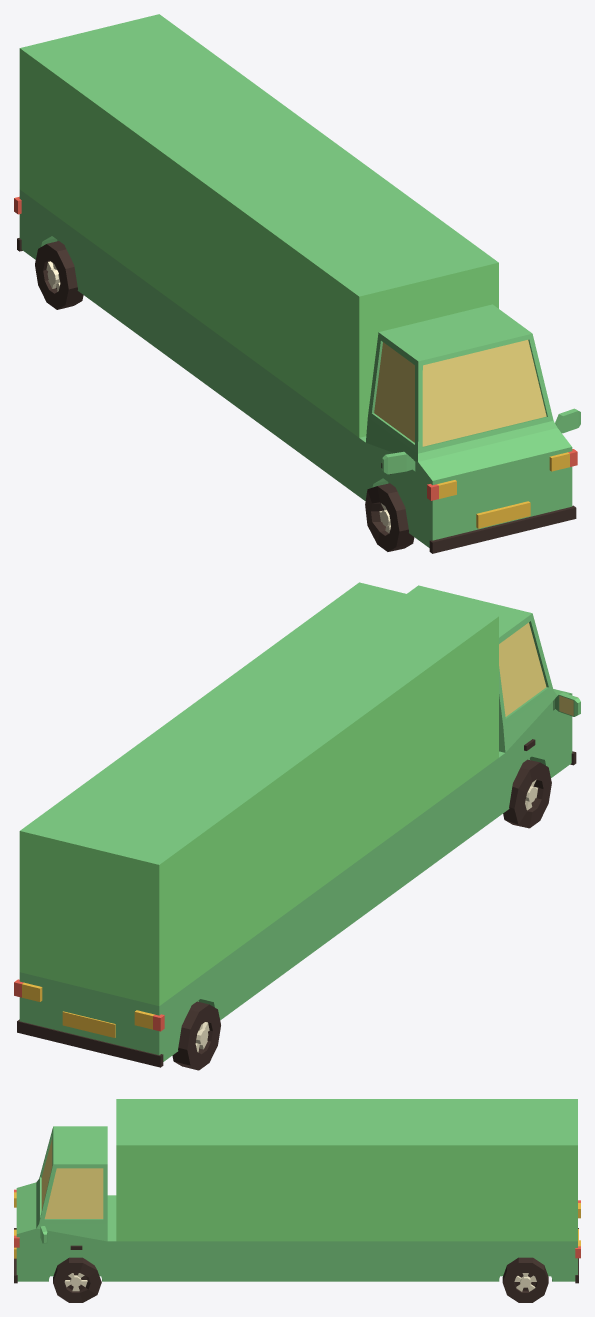
File: TruckModel_v2.fbx
The picture shows the model from 3 angles, top to bottom: view 1: azimuth 30°, elevation 25°; view 2: azimuth 150°, elevation 25°; view 3: azimuth 270°, elevation 25°; orthographic projection. The views are drawn at different scales.
Parts seen in each view (by area): view 1: Truck; view 2: Truck; view 3: Truck.
Boxes of the visible parts, box(x1,y1,x2,y2) form: Truck: box(14, 14, 580, 553); Truck: box(14, 582, 580, 1070); Truck: box(14, 1099, 580, 1302).
Size of the model in its own units: 417 by 463 by 1528.
